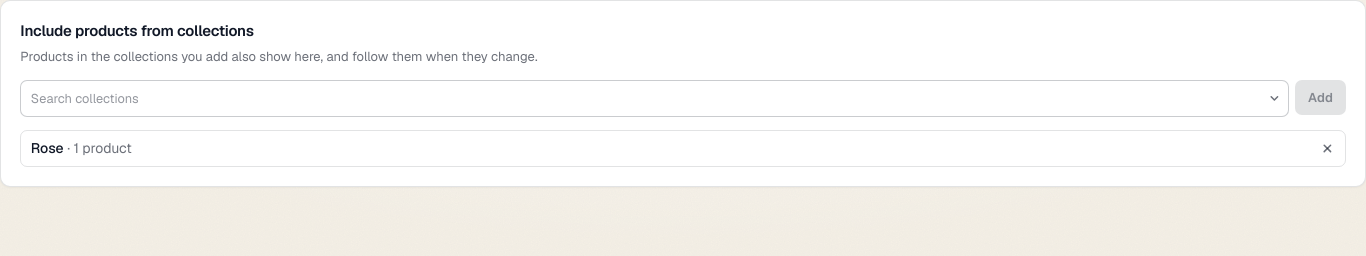
Scenario: IncludeCollectionsPicker › has Select all (shown) and Clear
Type "i" into the dropdown at (655, 98), box [20, 80, 1289, 117]
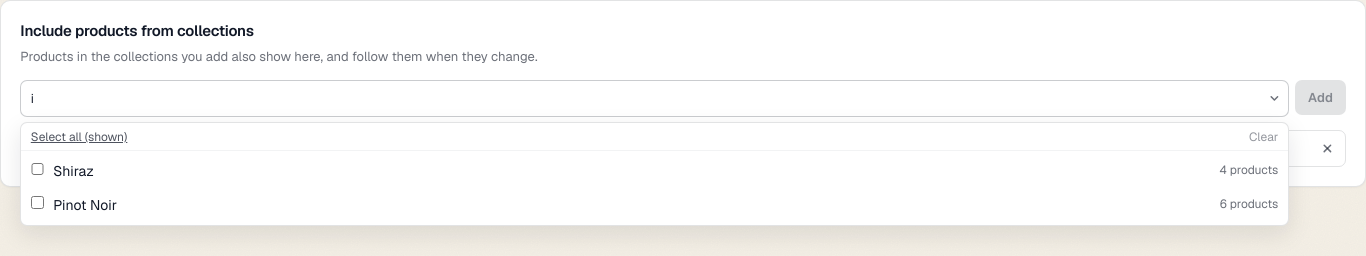
Click the button "Select all (shown)" at (79, 137), box [31, 128, 127, 146]
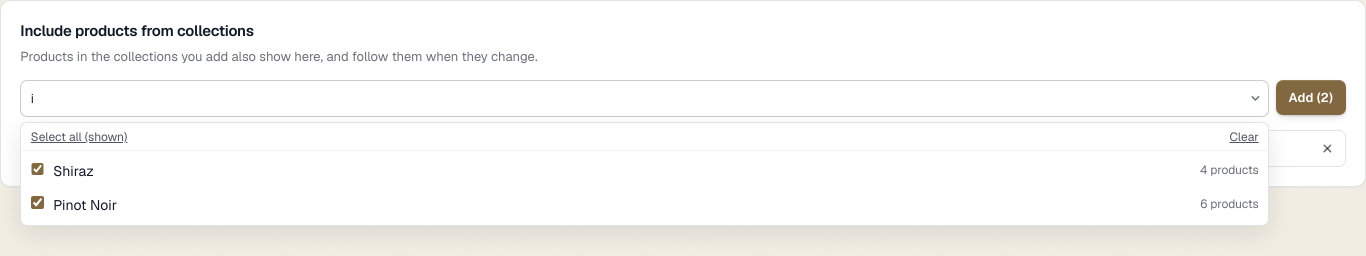
Check: the button "Add (2)" is shown, box [1276, 80, 1346, 115]
Click the button "Clear" at (1244, 137), box [1230, 128, 1259, 146]
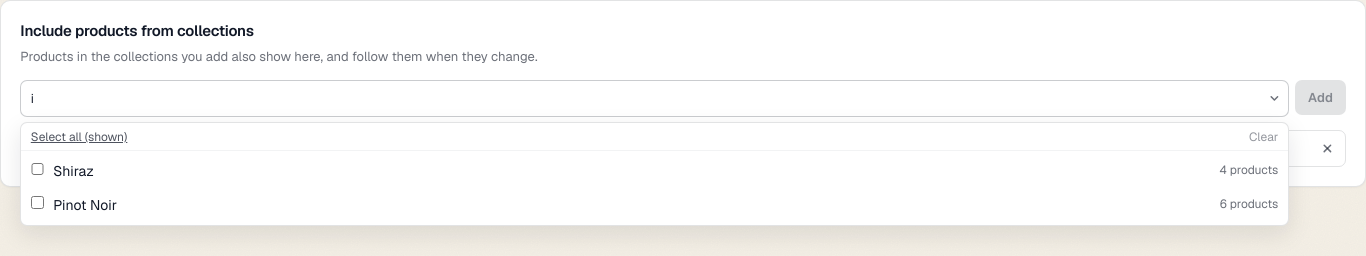
Check: the button "Add" is disabled, box [1295, 80, 1346, 115]
